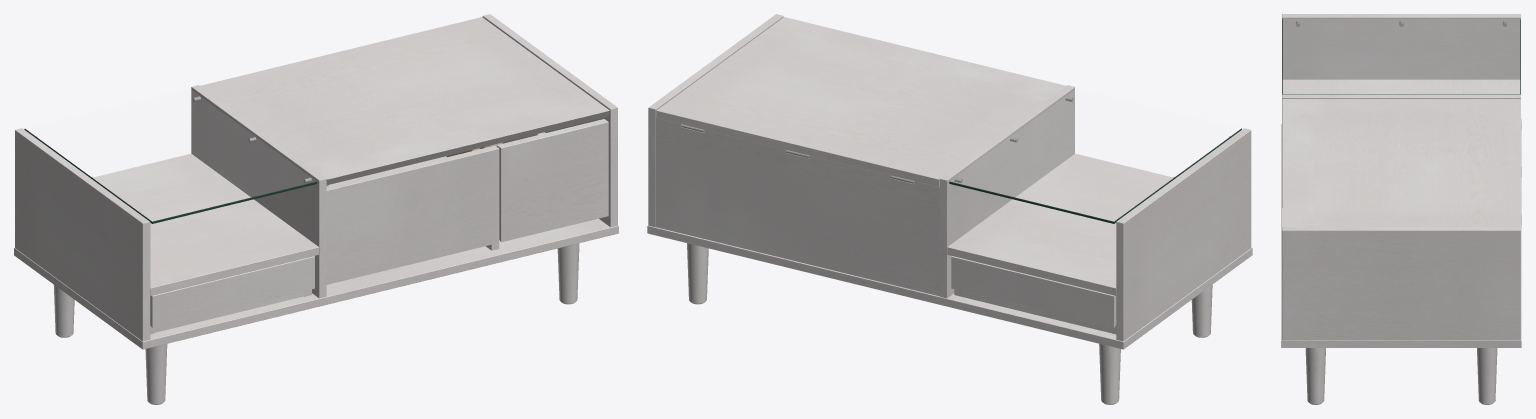
The picture shows the model from 3 angles, left to right: view 1: azimuth 30°, elevation 25°; view 2: azimuth 150°, elevation 25°; view 3: azimuth 270°, elevation 25°; orthographic projection. The views are drawn at different scales.
Parts seen in each view (by area): view 1: F402_G1027_1000W1; view 2: F402_G1027_1000W1; view 3: F402_G1027_1000W1.
Part boxes in pixels (left/top/right/bottom): F402_G1027_1000W1: left=14, top=14, right=618, bottom=404; F402_G1027_1000W1: left=647, top=14, right=1252, bottom=404; F402_G1027_1000W1: left=1281, top=14, right=1521, bottom=404.
Bounding box in the file's own units: 0.95 × 0.38 × 0.445.
Materials: 9 (3 with a texture image).
